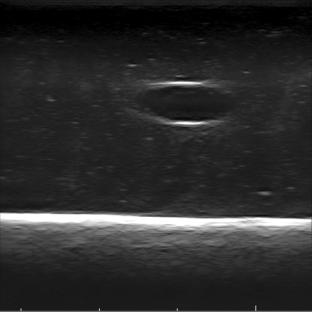vessel: (132, 81, 237, 128)
